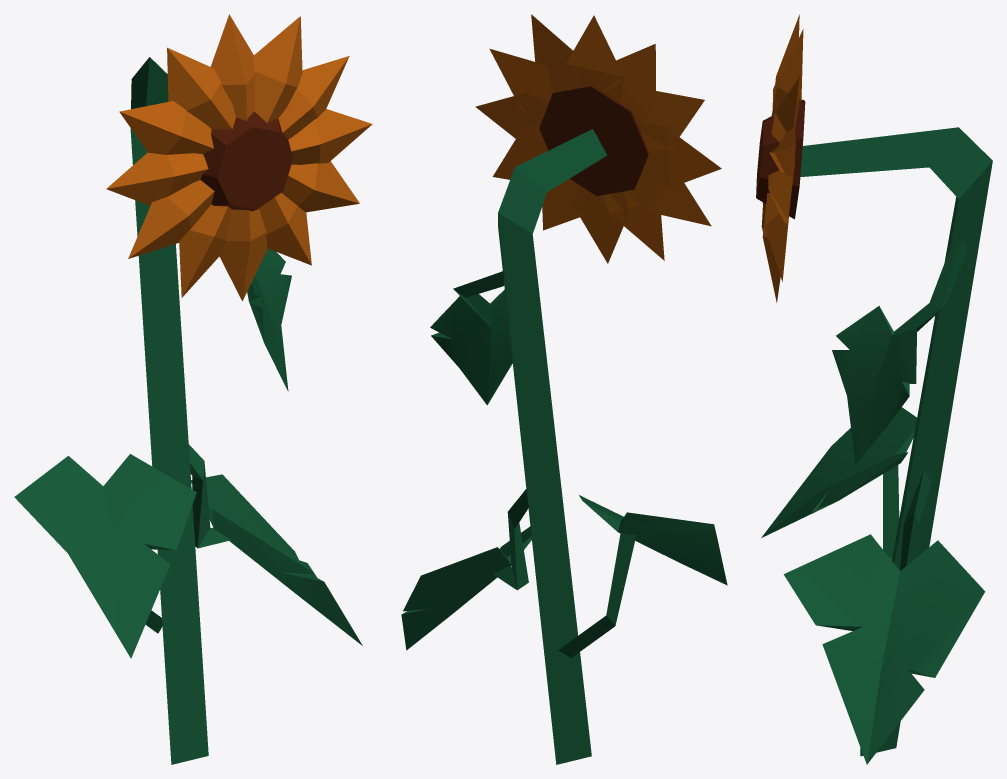
File: Sunflower.fbx
3 renders of one model, left to right at view 1: azimuth 30°, elevation 25°; view 2: azimuth 150°, elevation 25°; view 3: azimuth 270°, elevation 25°, orthographic. The views are drawn at different scales.
Parts seen in each view (by area): view 1: Sunflower; view 2: Sunflower; view 3: Sunflower.
Boxes of the visible parts, <box> form: Sunflower: <box>14,14,372,764</box>; Sunflower: <box>401,14,727,764</box>; Sunflower: <box>756,14,992,764</box>.
Bounding box in the file's own units: 28.46 × 61.36 × 18.2.
